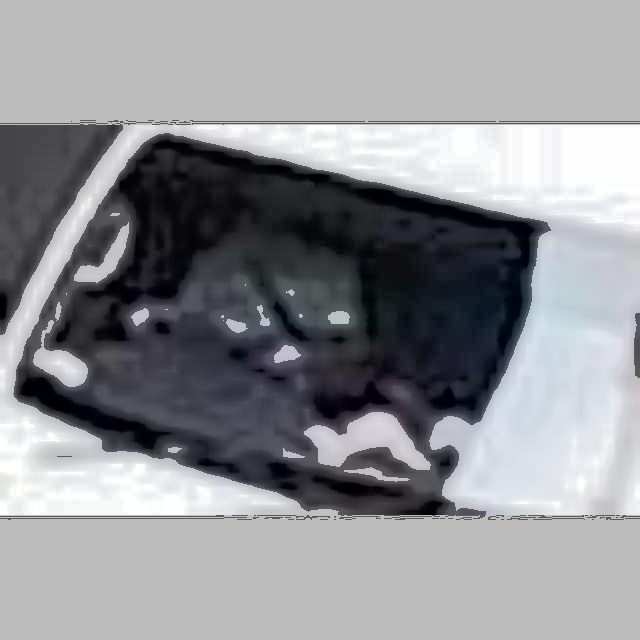pakai: (156, 226, 367, 383)
